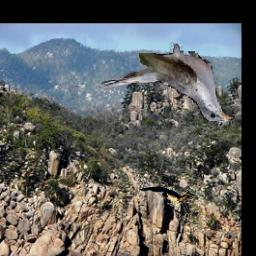Cuckoo: (94, 36, 235, 122)
Swallow: (137, 183, 209, 220)
